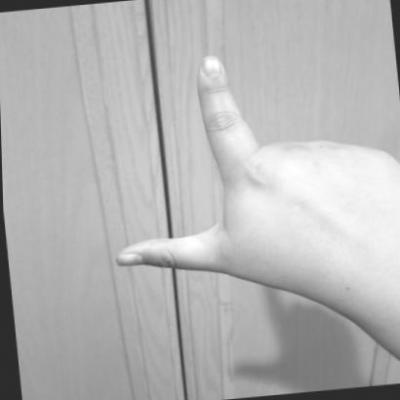hand: (87, 34, 399, 331)
